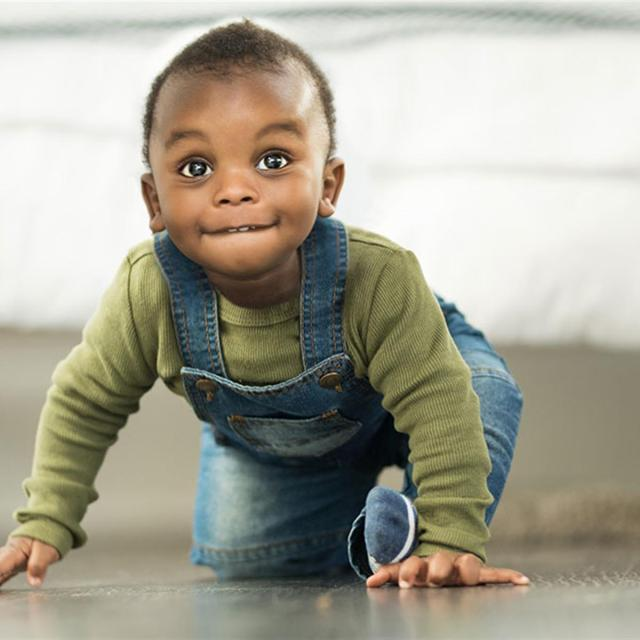non-dog: (1, 12, 530, 589)
